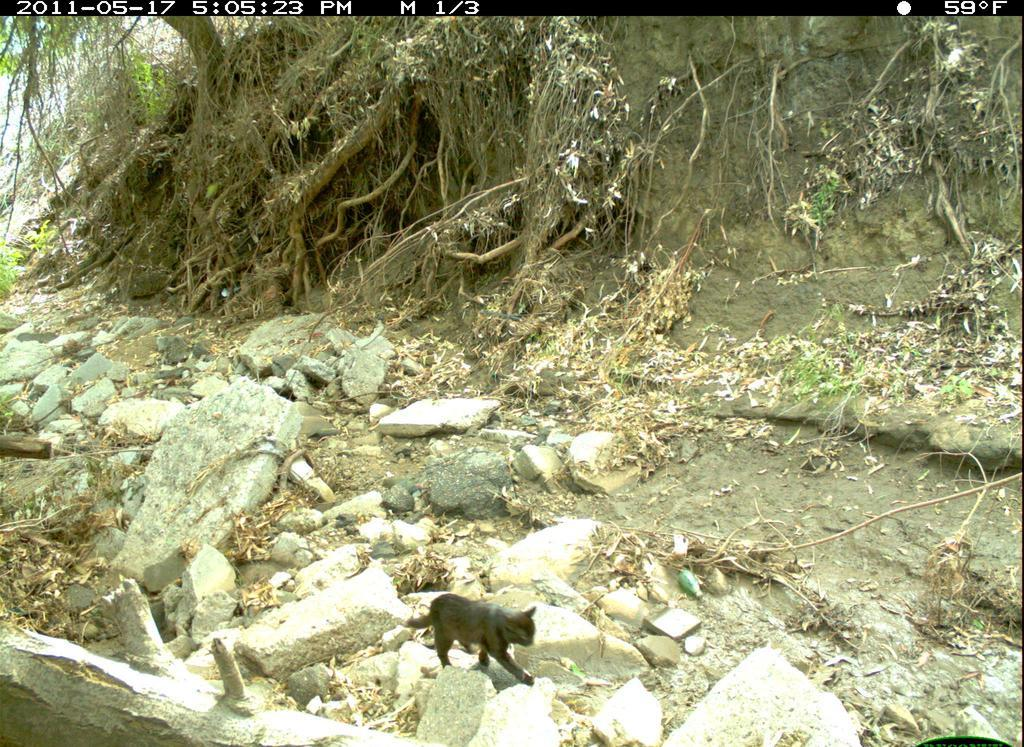cat: (402, 591, 546, 687)
